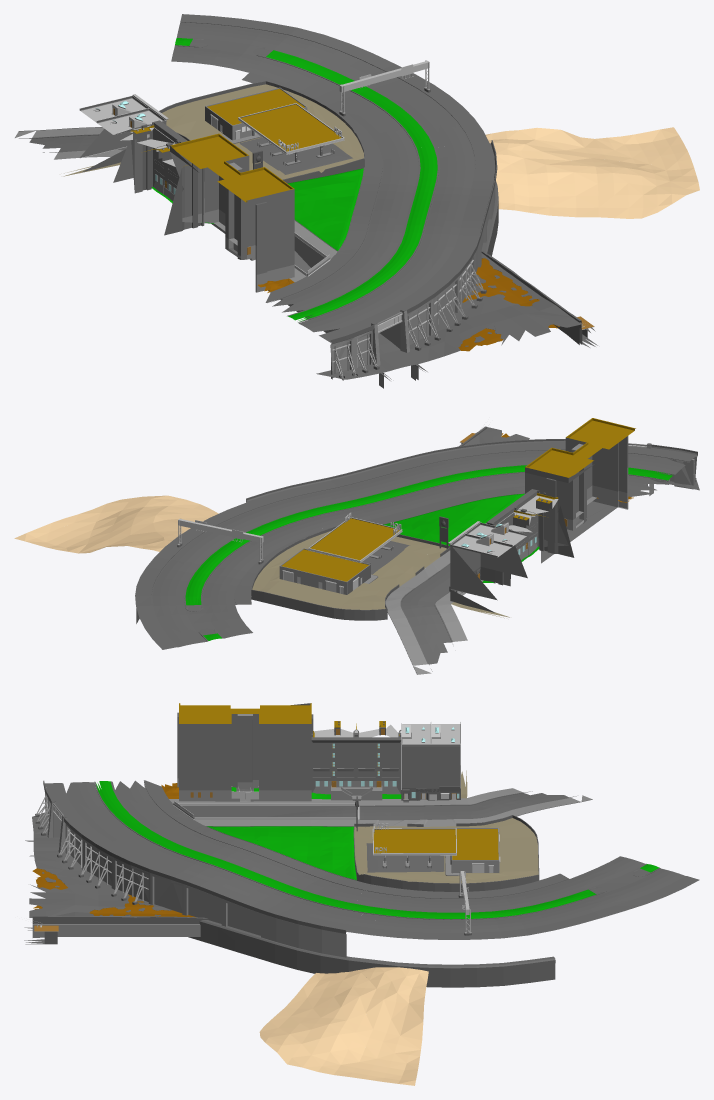
Rendered from bronx_e2_1.FBX.
3 renders of one model, top to bottom at view 1: azimuth 30°, elevation 25°; view 2: azimuth 150°, elevation 25°; view 3: azimuth 270°, elevation 25°, orthographic. The views are drawn at different scales.
Visible parts, largest first — view 1: null, unnamed; view 2: unnamed, null; view 3: null, unnamed.
Part boxes in pixels (box(x1,y1,x2,y2)): null: box(144, 123, 699, 388); unnamed: box(15, 14, 687, 199); unnamed: box(14, 490, 532, 674); null: box(49, 418, 699, 563); null: box(24, 703, 397, 1079); unnamed: box(315, 721, 699, 1085).
Bounding box in the file's own units: 221 × 59.16 × 255.
